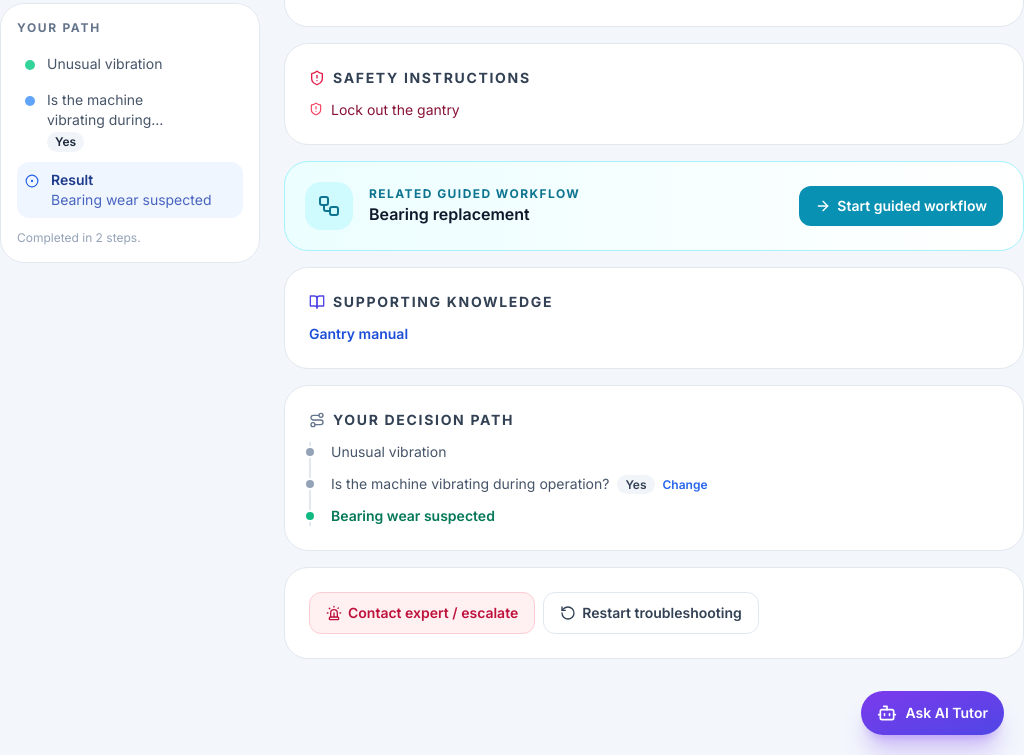
Test: Trainee guided troubleshooting › escalates from the final report
(page scrolled)
Click the button "Contact expert / escalate".
click(422, 613)  # box [309, 592, 535, 634]
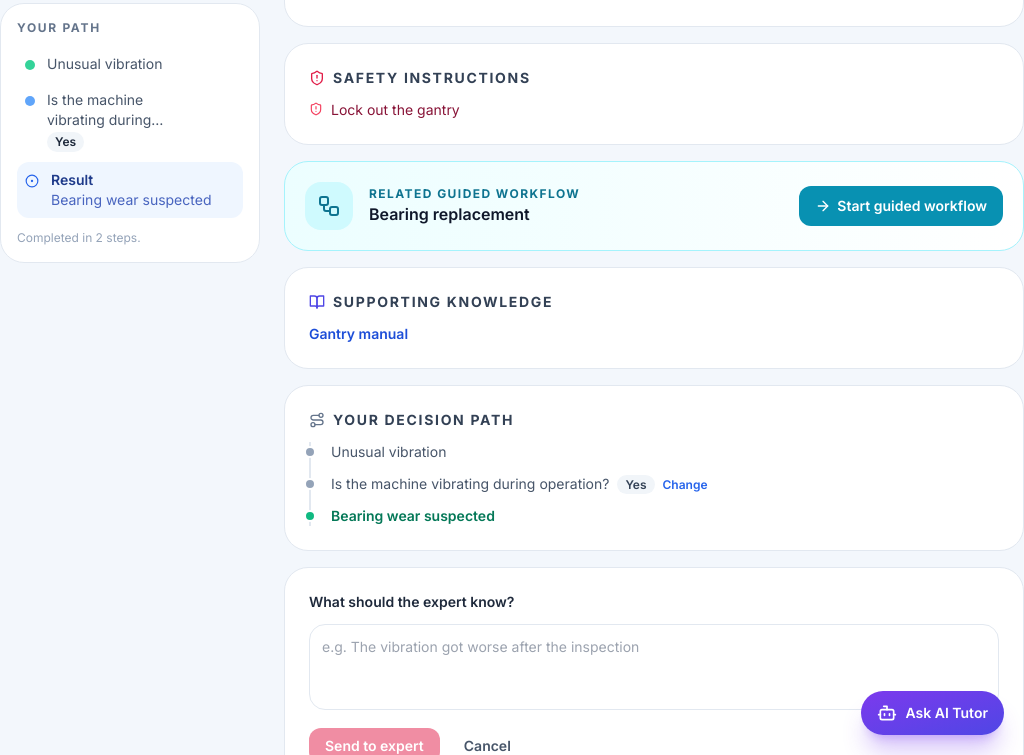
Type "Noise got louder" into the text box labelled "What should the expert know?".
click(654, 667); type("Noise got louder")  # box [309, 624, 999, 710]
(page scrolled)
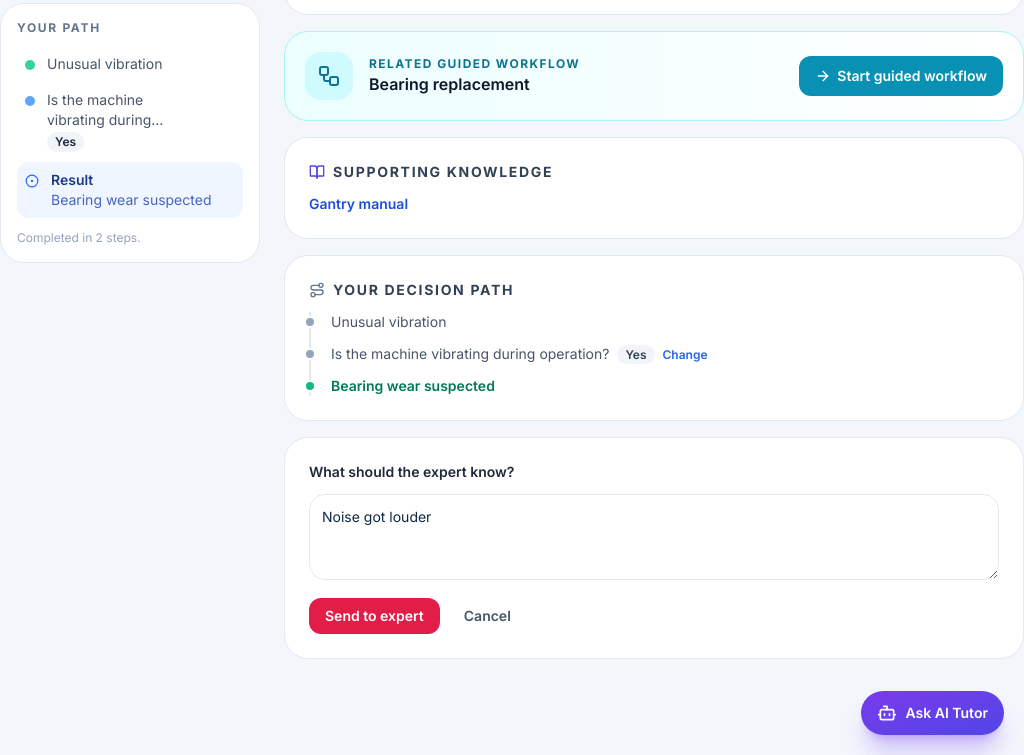
Click the button "Send to expert".
click(374, 616)  # box [309, 598, 440, 634]
(page scrolled)
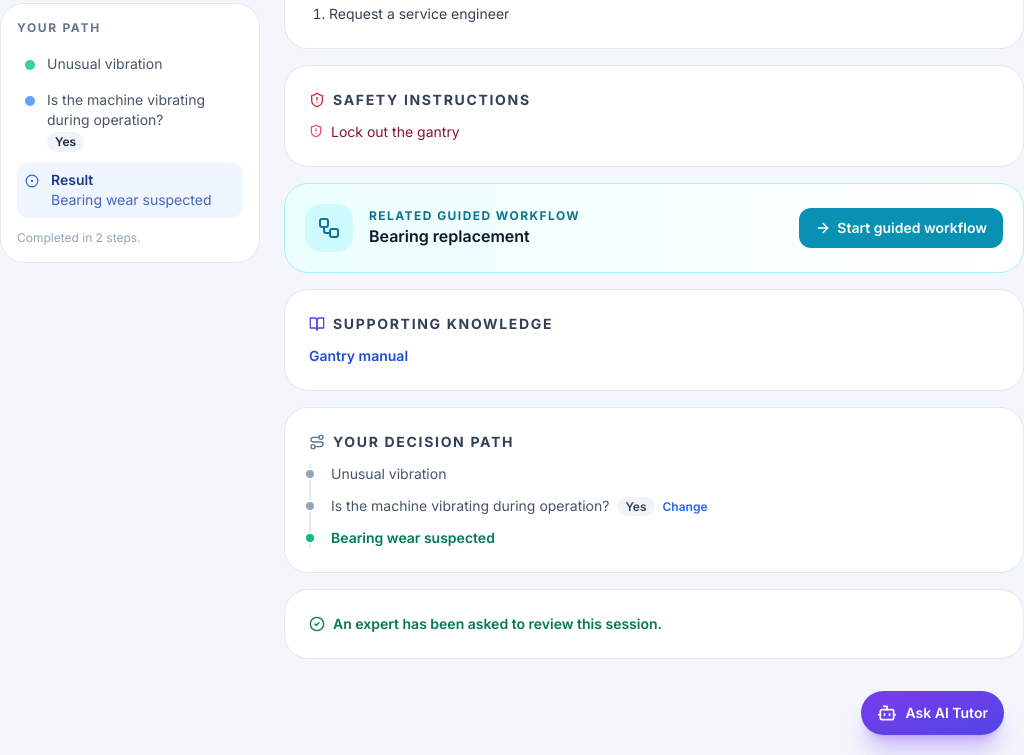
Expected: the text "An expert has been asked to review this session." is shown, [309, 615, 662, 632]
